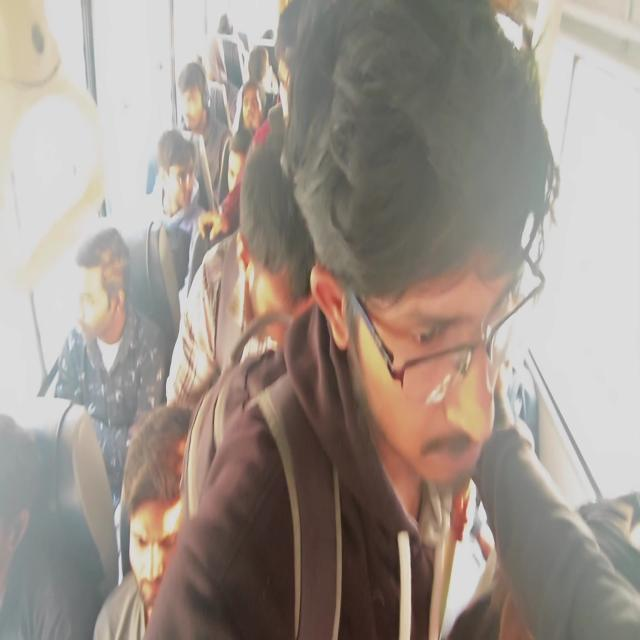person: (317, 38, 538, 480), (116, 423, 201, 634), (243, 178, 325, 355), (0, 348, 53, 564), (78, 239, 120, 347), (159, 137, 206, 217), (224, 133, 256, 208), (181, 73, 212, 140), (199, 34, 232, 95), (249, 45, 277, 100), (239, 83, 266, 129), (217, 14, 237, 45), (261, 22, 279, 48)
